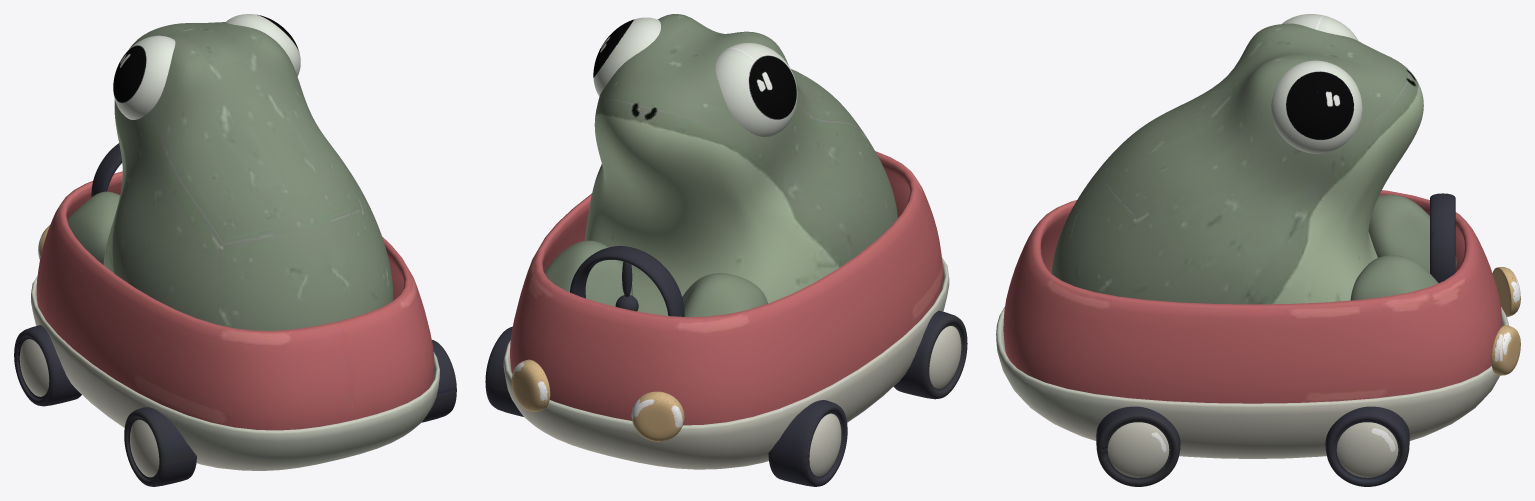
Rendered from frog.glb.
3 views of the same model, side by side, from view 1: azimuth 30°, elevation 25°; view 2: azimuth 150°, elevation 25°; view 3: azimuth 270°, elevation 25° (orthographic). The views are drawn at different scales.
Parts seen in each view (by area): view 1: frog; view 2: frog; view 3: frog.
Part boxes in pixels (x1,y1,x2,y2): frog: [14, 14, 456, 486]; frog: [485, 14, 967, 486]; frog: [996, 14, 1520, 486].
Bounding box in the file's own units: 2.33 × 2.64 × 3.33.
1 material, 1 textured.
